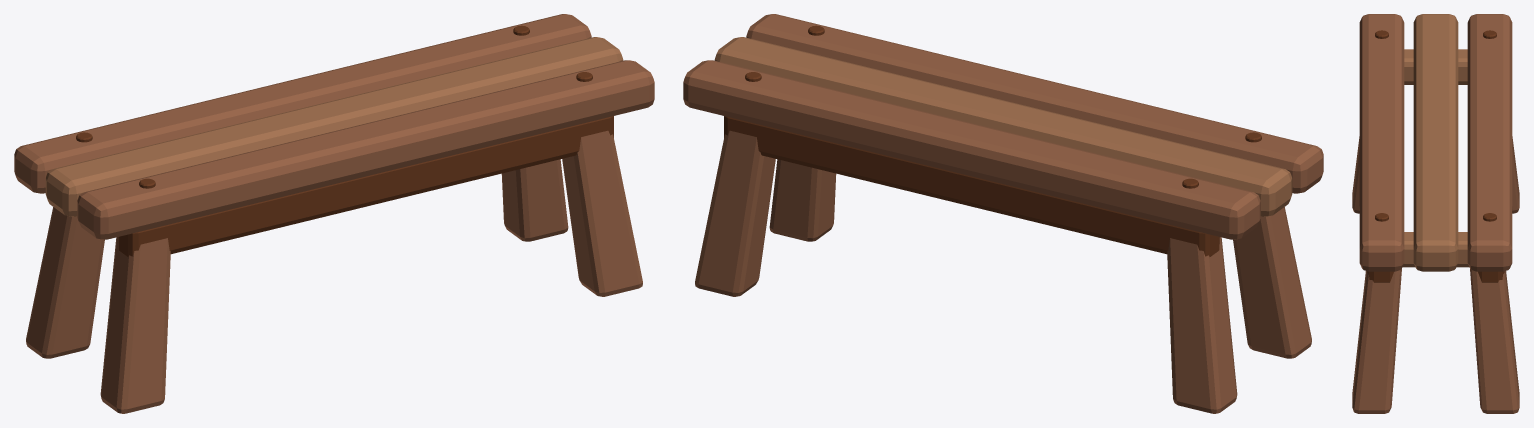
The model's file is WoodenBench.glb.
The picture shows the model from 3 angles, left to right: view 1: azimuth 30°, elevation 25°; view 2: azimuth 150°, elevation 25°; view 3: azimuth 270°, elevation 25°; orthographic projection. The views are drawn at different scales.
Visible parts, largest first — view 1: WoodenBench_SeatSlatFront, WoodenBench_SeatSlatCenter, WoodenBench_SeatSlatBack, WoodenBench_SupportRailFront, WoodenBench_LegFrontLeft, WoodenBench_LegFrontRight, WoodenBench_LegBackLeft, WoodenBench_LegBackRight; view 2: WoodenBench_SeatSlatBack, WoodenBench_SeatSlatCenter, WoodenBench_SeatSlatFront, WoodenBench_SupportRailBack, WoodenBench_LegBackLeft, WoodenBench_LegBackRight, WoodenBench_LegFrontLeft, WoodenBench_LegFrontRight; view 3: WoodenBench_SeatSlatCenter, WoodenBench_SeatSlatFront, WoodenBench_SeatSlatBack, WoodenBench_LegFrontRight, WoodenBench_LegBackRight, WoodenBench_EndBraceRight, WoodenBench_EndBraceLeft, WoodenBench_LegFrontLeft, WoodenBench_LegBackLeft, WoodenBench_SupportRailFront, WoodenBench_SupportRailBack.
Part boxes in pixels (box(x1,y1,x2,y2)): WoodenBench_SeatSlatFront: box(77, 60, 654, 239); WoodenBench_SeatSlatCenter: box(45, 37, 623, 216); WoodenBench_SeatSlatBack: box(14, 14, 591, 193); WoodenBench_SupportRailFront: box(118, 116, 613, 256); WoodenBench_LegFrontLeft: box(100, 237, 170, 413); WoodenBench_LegFrontRight: box(562, 130, 642, 296); WoodenBench_LegBackLeft: box(26, 207, 104, 358); WoodenBench_LegBackRight: box(501, 159, 568, 241); WoodenBench_SeatSlatBack: box(683, 60, 1260, 239); WoodenBench_SeatSlatCenter: box(714, 37, 1292, 216); WoodenBench_SeatSlatFront: box(746, 14, 1323, 193); WoodenBench_SupportRailBack: box(724, 116, 1219, 256); WoodenBench_LegBackLeft: box(1167, 237, 1237, 413); WoodenBench_LegBackRight: box(695, 130, 775, 296); WoodenBench_LegFrontLeft: box(1233, 207, 1311, 358); WoodenBench_LegFrontRight: box(769, 159, 836, 241); WoodenBench_SeatSlatCenter: box(1413, 14, 1458, 271); WoodenBench_SeatSlatFront: box(1359, 14, 1404, 271); WoodenBench_SeatSlatBack: box(1467, 14, 1512, 271); WoodenBench_LegFrontRight: box(1352, 269, 1401, 413); WoodenBench_LegBackRight: box(1470, 269, 1519, 413); WoodenBench_EndBraceRight: box(1402, 232, 1469, 267); WoodenBench_EndBraceLeft: box(1404, 49, 1467, 84); WoodenBench_LegFrontLeft: box(1352, 136, 1359, 213); WoodenBench_LegBackLeft: box(1512, 136, 1519, 213); WoodenBench_SupportRailFront: box(1367, 271, 1393, 282); WoodenBench_SupportRailBack: box(1478, 271, 1504, 282).
Size of the model in its own units: 2.1 by 0.763 by 0.6348.
